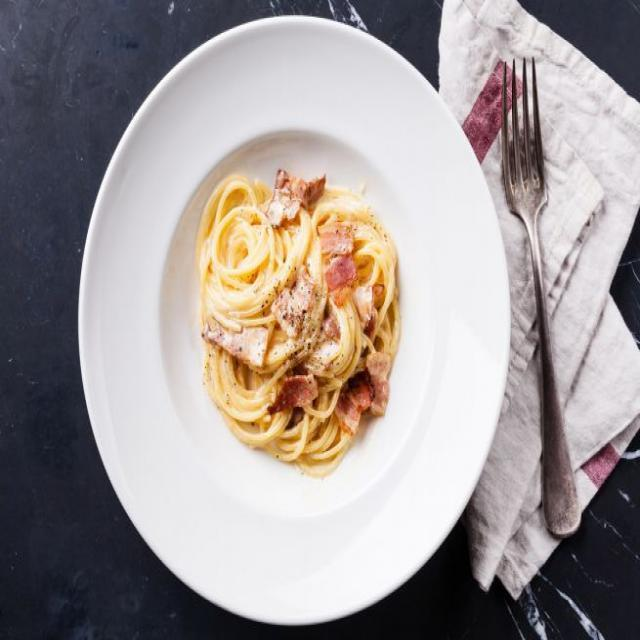Pasta with carbonara sauce: (157, 109, 450, 495)
